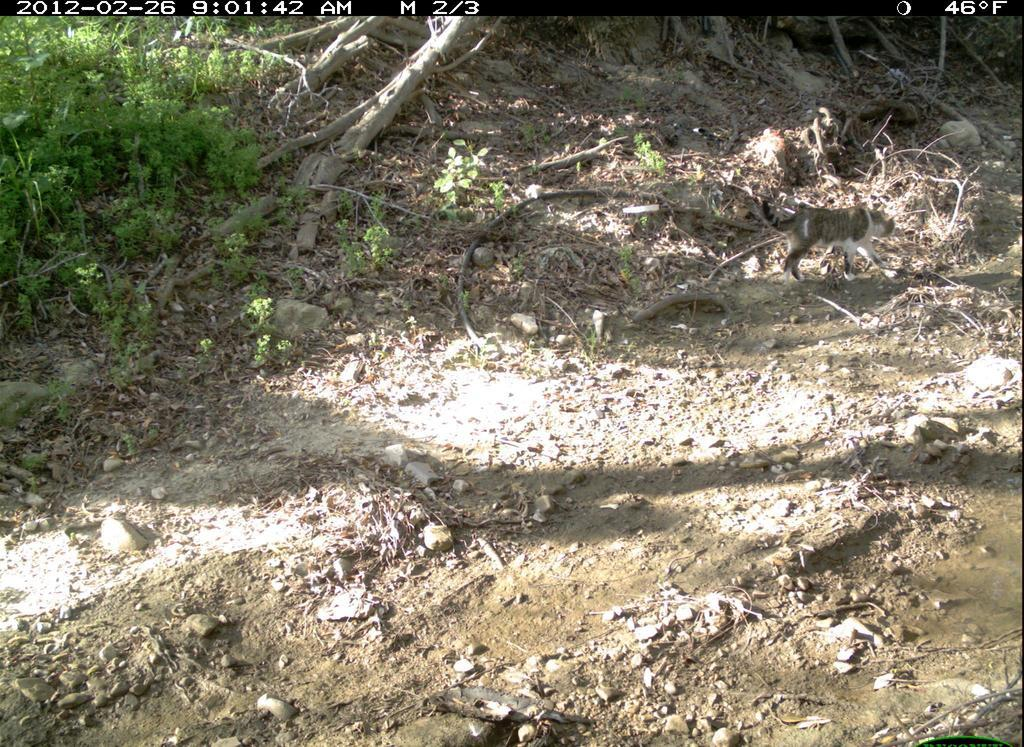cat: (751, 180, 904, 286)
